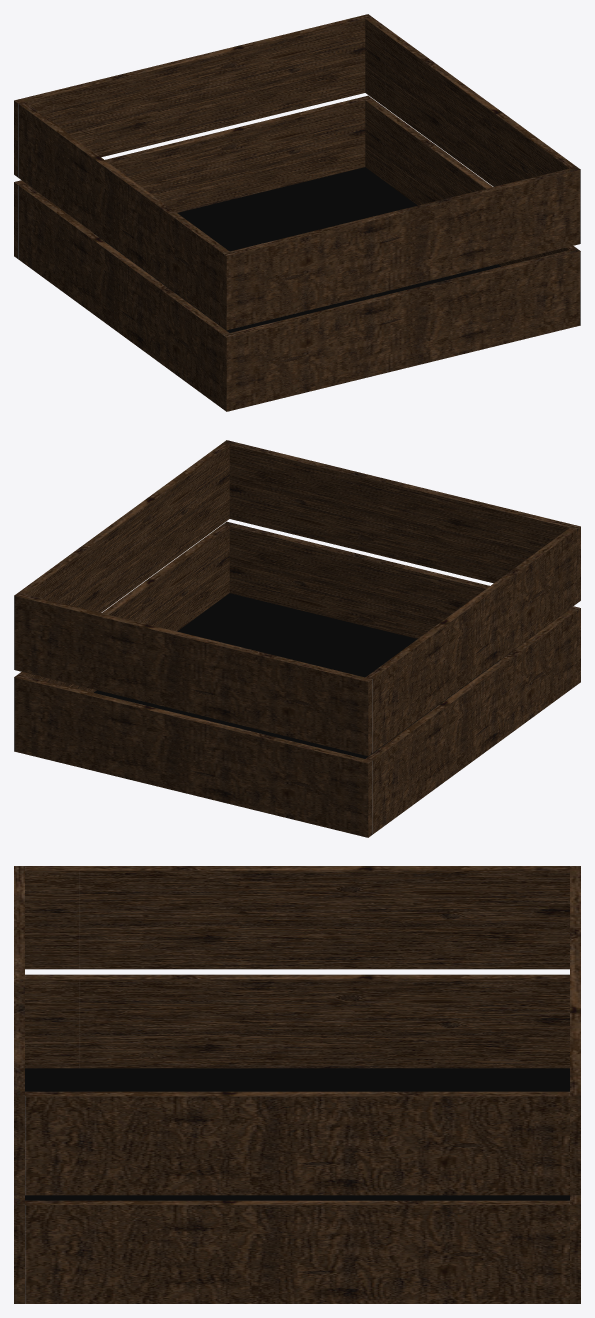
The model's file is Holzbox.fbx.
3 renders of one model, top to bottom at view 1: azimuth 30°, elevation 25°; view 2: azimuth 150°, elevation 25°; view 3: azimuth 270°, elevation 25°, orthographic. The views are drawn at different scales.
Visible parts, largest first — view 1: Plane.003, Plane, Plane.002, Plane.006, Plane.007, Plane.001, Plane.004, Plane.008, Plane.005; view 2: Plane.002, Plane.001, Plane.003, Plane.006, Plane.007, Plane, Plane.004, Plane.008, Plane.005; view 3: Plane.004, Plane.005, Plane.007, Plane.006, Plane.008, Plane.003, Plane.002, Plane, Plane.001.
Part boxes in pixels (left/top/right/bottom): Plane.003: left=222, top=167, right=580, bottom=330; Plane: left=222, top=248, right=580, bottom=411; Plane.002: left=14, top=14, right=371, bottom=177; Plane.006: left=18, top=183, right=228, bottom=408; Plane.007: left=18, top=102, right=229, bottom=326; Plane.001: left=14, top=95, right=371, bottom=258; Plane.004: left=365, top=17, right=576, bottom=186; Plane.008: left=94, top=167, right=500, bottom=332; Plane.005: left=365, top=98, right=576, bottom=266; Plane.002: left=14, top=593, right=372, bottom=756; Plane.001: left=14, top=674, right=372, bottom=837; Plane.003: left=223, top=440, right=580, bottom=603; Plane.006: left=366, top=609, right=576, bottom=834; Plane.007: left=365, top=528, right=576, bottom=752; Plane: left=223, top=521, right=580, bottom=684; Plane.004: left=18, top=443, right=229, bottom=612; Plane.008: left=94, top=593, right=500, bottom=758; Plane.005: left=18, top=524, right=229, bottom=692; Plane.004: left=25, top=1091, right=569, bottom=1195; Plane.005: left=25, top=1200, right=569, bottom=1303; Plane.007: left=25, top=866, right=569, bottom=969; Plane.006: left=25, top=974, right=569, bottom=1068; Plane.008: left=25, top=1068, right=569, bottom=1200; Plane.003: left=14, top=866, right=24, bottom=1195; Plane.002: left=570, top=866, right=580, bottom=1195; Plane: left=14, top=1195, right=24, bottom=1303; Plane.001: left=570, top=1195, right=580, bottom=1303.
Bounding box in the file's own units: 100 × 42 × 104.
9 materials, 9 textured.
